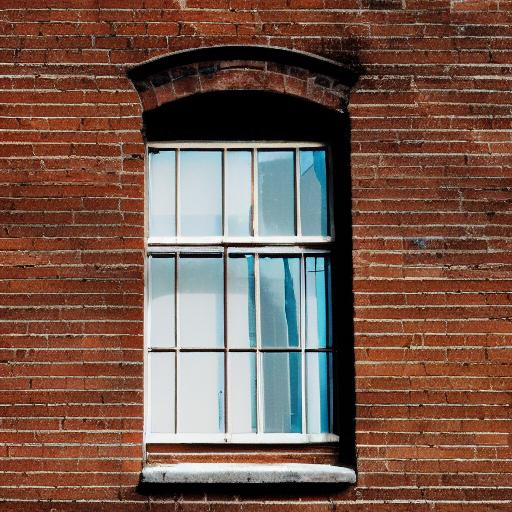Window: (129, 47, 365, 493)
